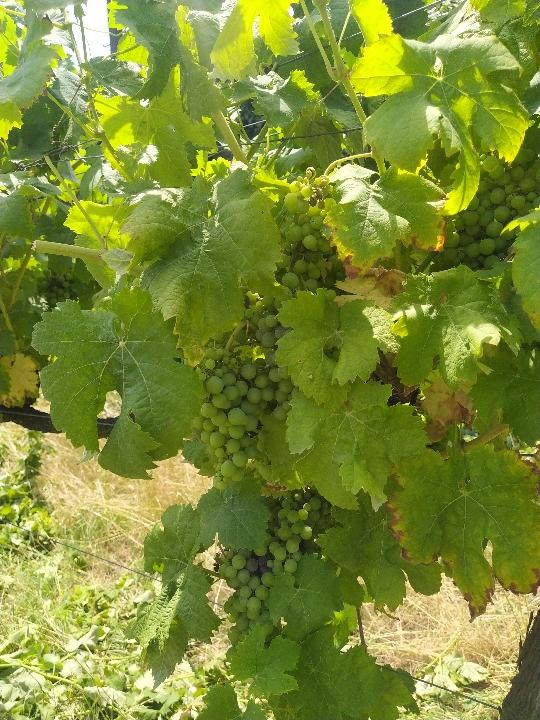grape: (193, 352, 294, 499)
